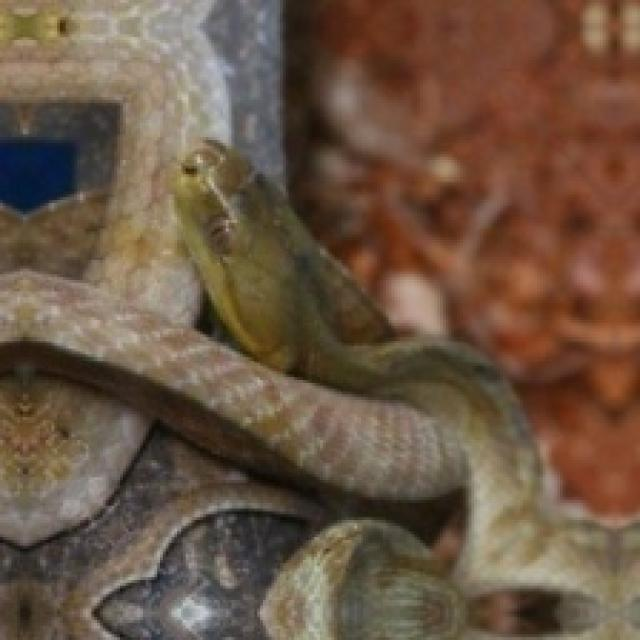philippine cat snake: (0, 140, 637, 637)
